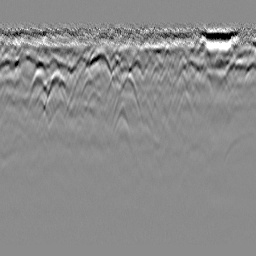cavity: (111, 71, 143, 125)
